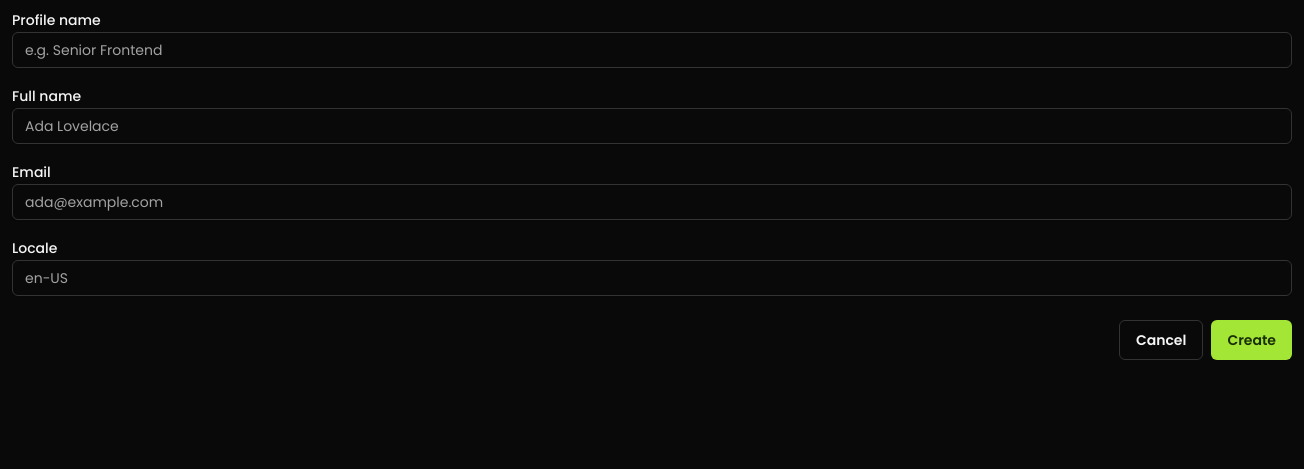
Test: CreateProfileDialog › validates required fields and does not submit
Click the button "Create" at (1252, 340), box [1211,320,1292,360]
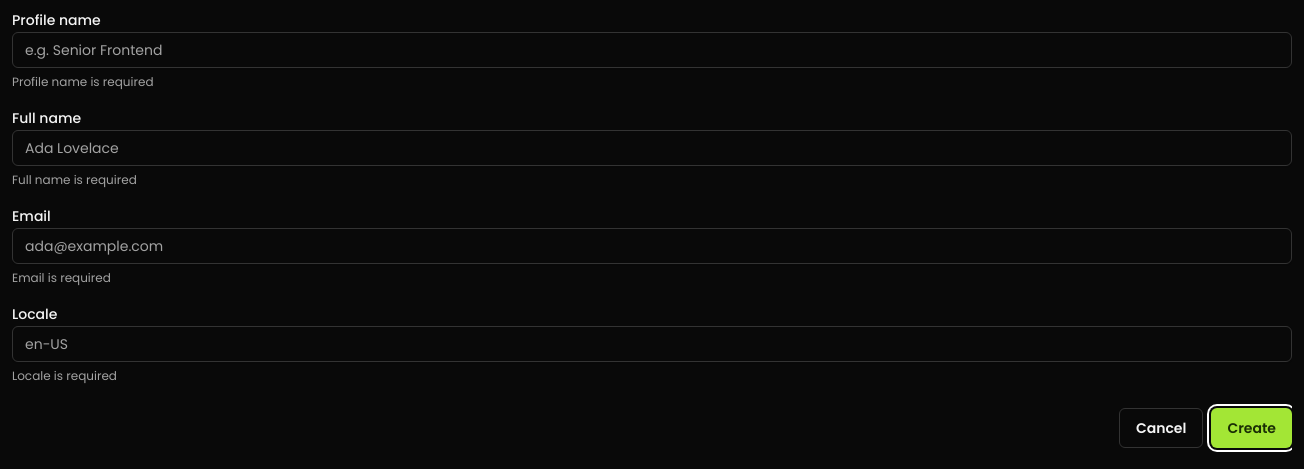
Check: the text "Profile name is required" is shown, box [12,73,154,90]
Check: the text "Full name is required" is shown, box [12,171,137,188]
Check: the text "Email is required" is shown, box [12,269,111,286]
